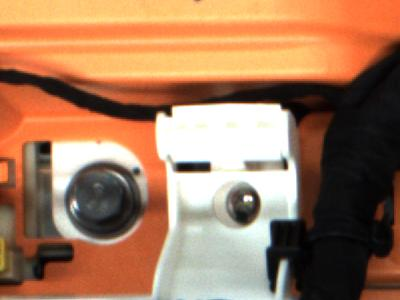nut_b: (61, 161, 147, 244)
